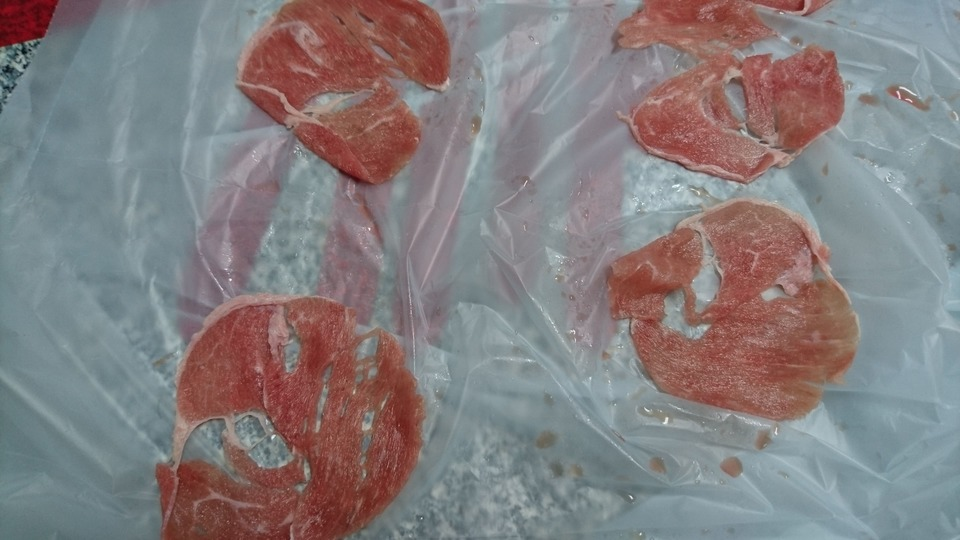restructured meat: (153, 289, 430, 535), (598, 192, 866, 421), (225, 6, 491, 189), (610, 8, 846, 184)
